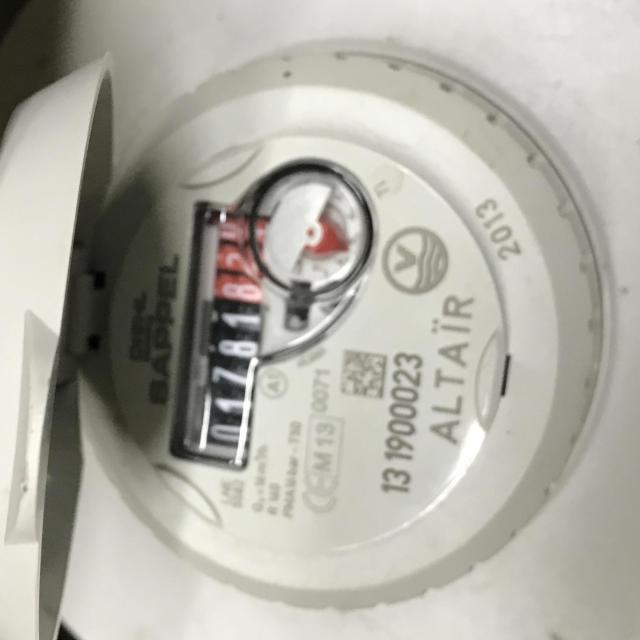gaz_meter: (81, 55, 557, 592)
indication: (169, 196, 276, 469)
